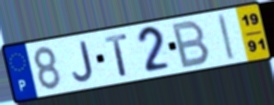2: (135, 24, 176, 78)
8: (31, 44, 64, 92)
B: (171, 18, 212, 70)
I: (216, 12, 237, 62)
J: (71, 39, 96, 84)
T: (103, 32, 130, 77)
